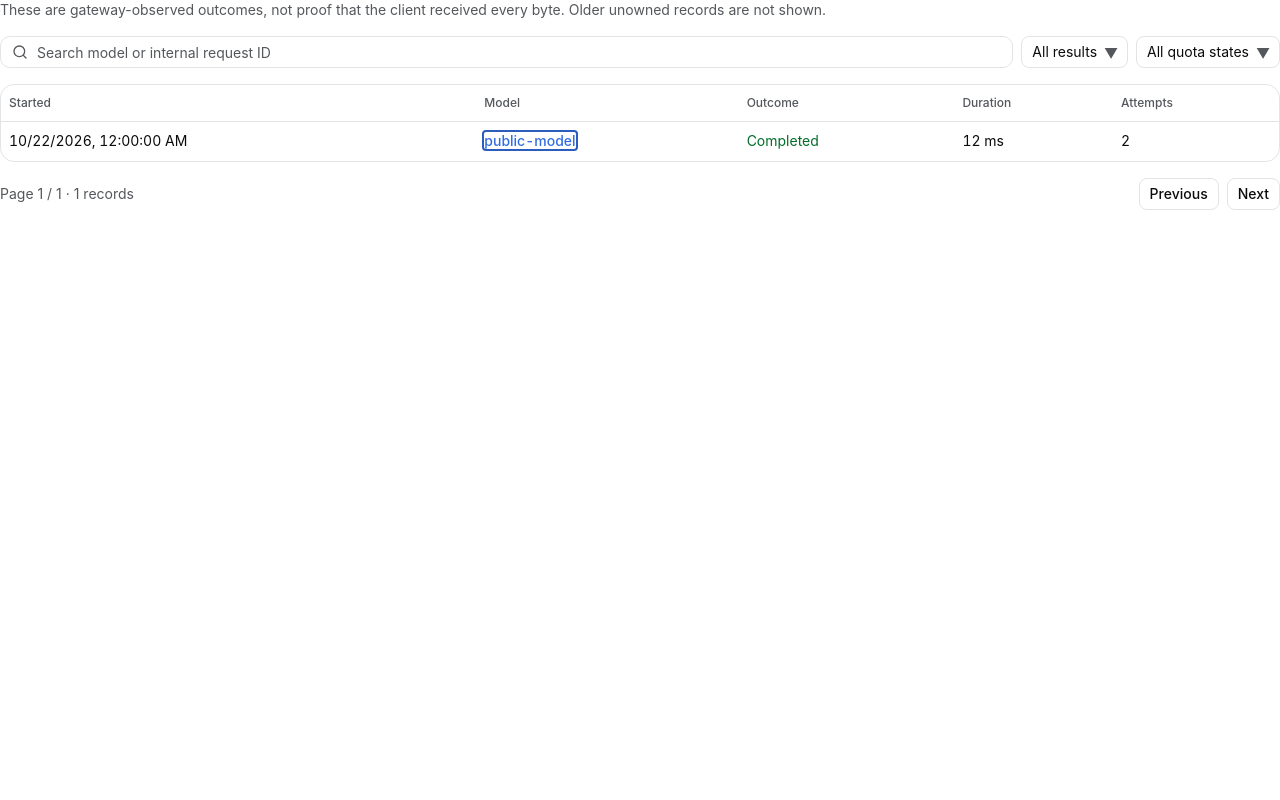
Test: request quota details › closes with Escape and returns focus to the original request entry
The image size is (1280, 800).
Click the link "public-model": click(530, 141) [484,132,576,149]
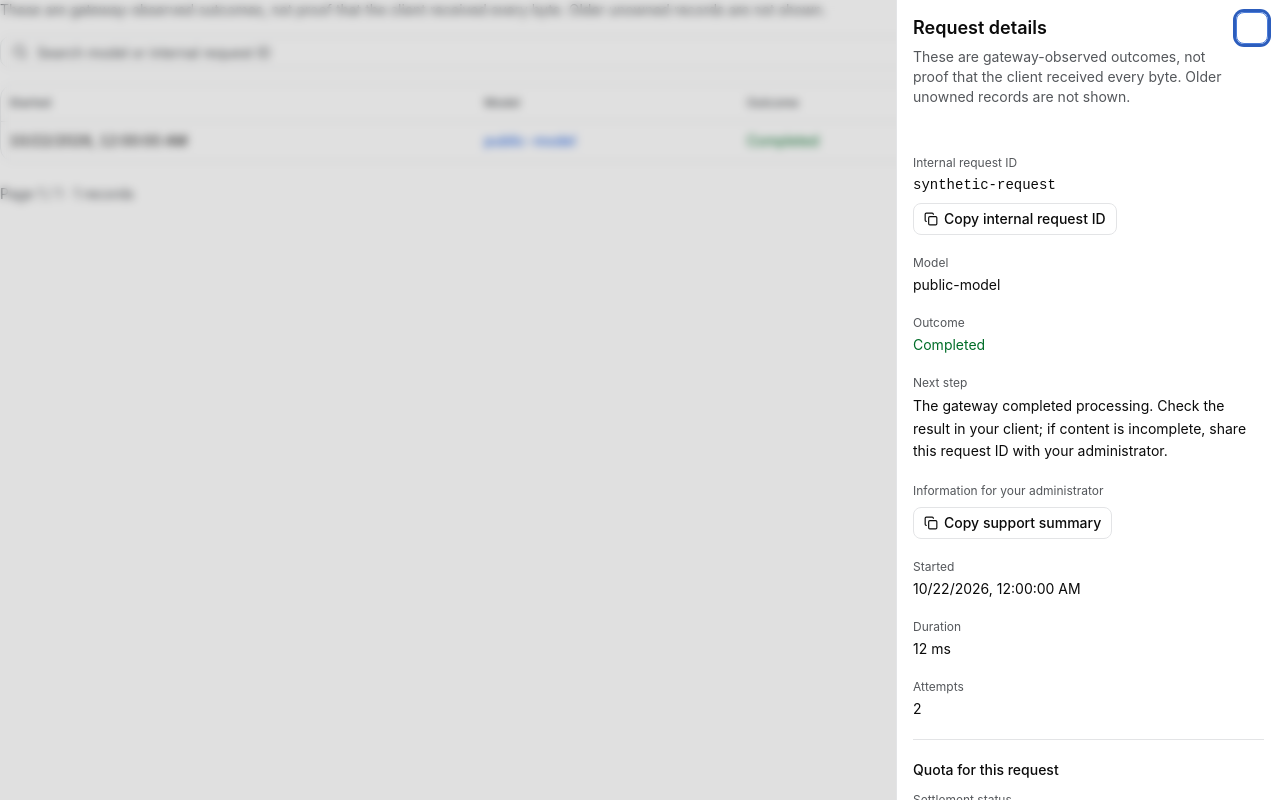
expect the text "Quota for this request" is shown: met, box [913,761,1059,778]
Press Escape in the dialog, box [896,0,1279,799]
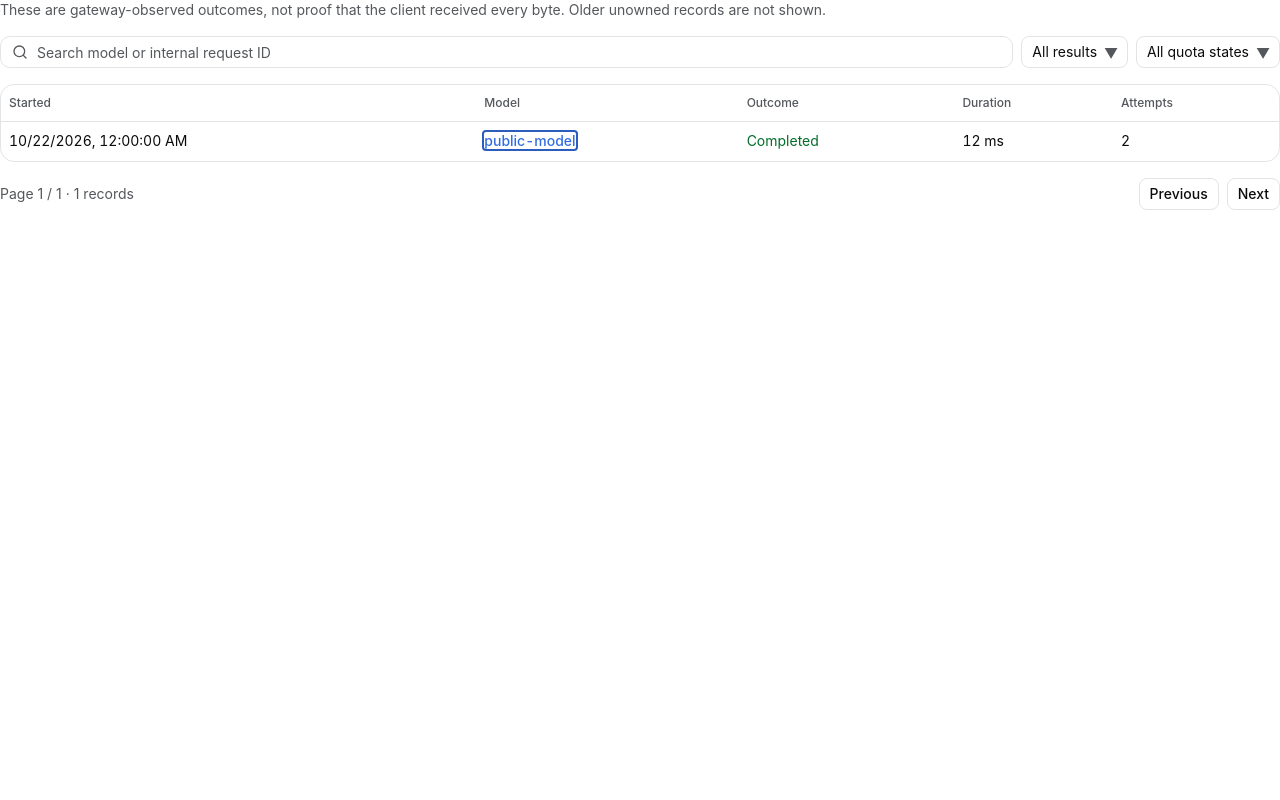
expect the dialog is gone: met
